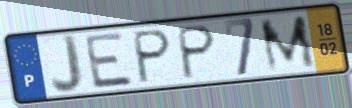7: (221, 15, 257, 80)
E: (82, 30, 137, 91)
J: (49, 32, 85, 96)
M: (257, 13, 319, 75)
P: (177, 23, 219, 82), (133, 27, 175, 86)
